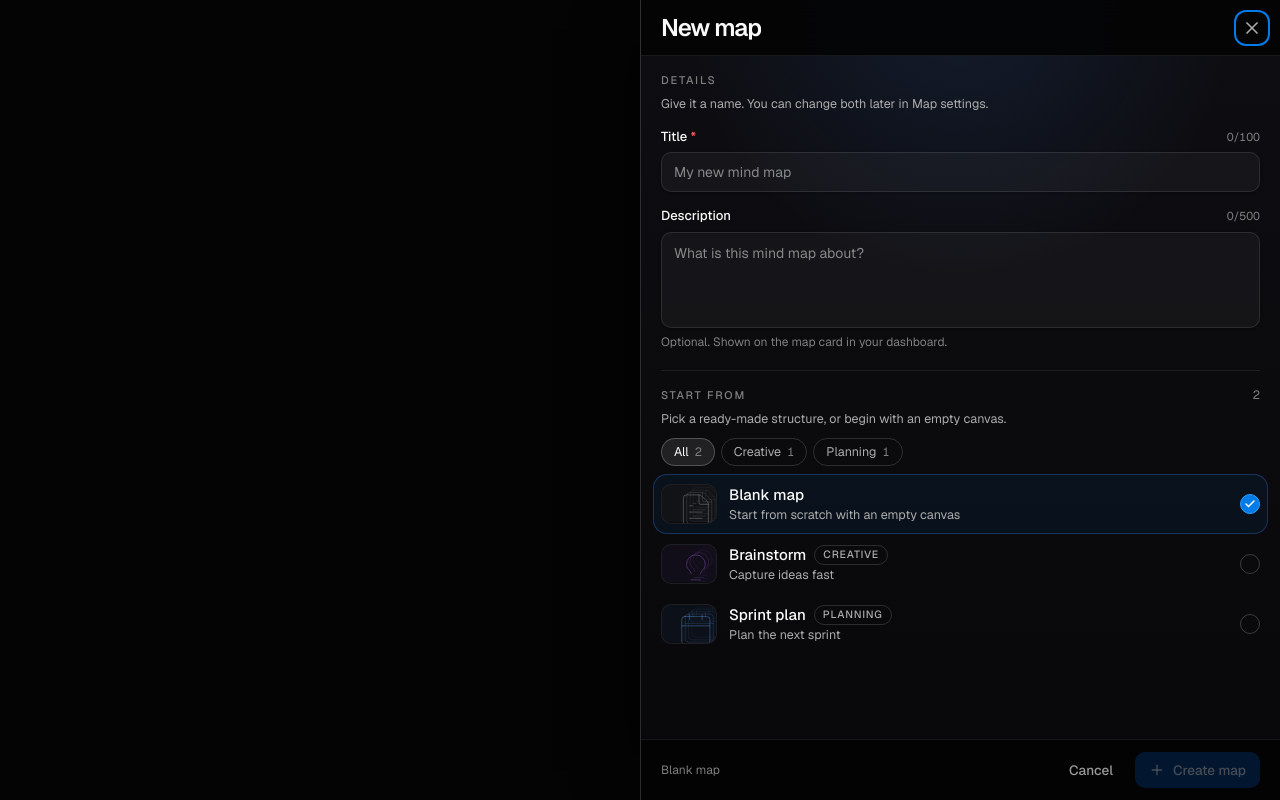
it: CreateMapDialog › filters templates by category and keeps the blank map
This screenshot has width=1280, height=800.
Click the button "Planning 1".
click(858, 452)  # box left=813, top=438, right=903, bottom=466
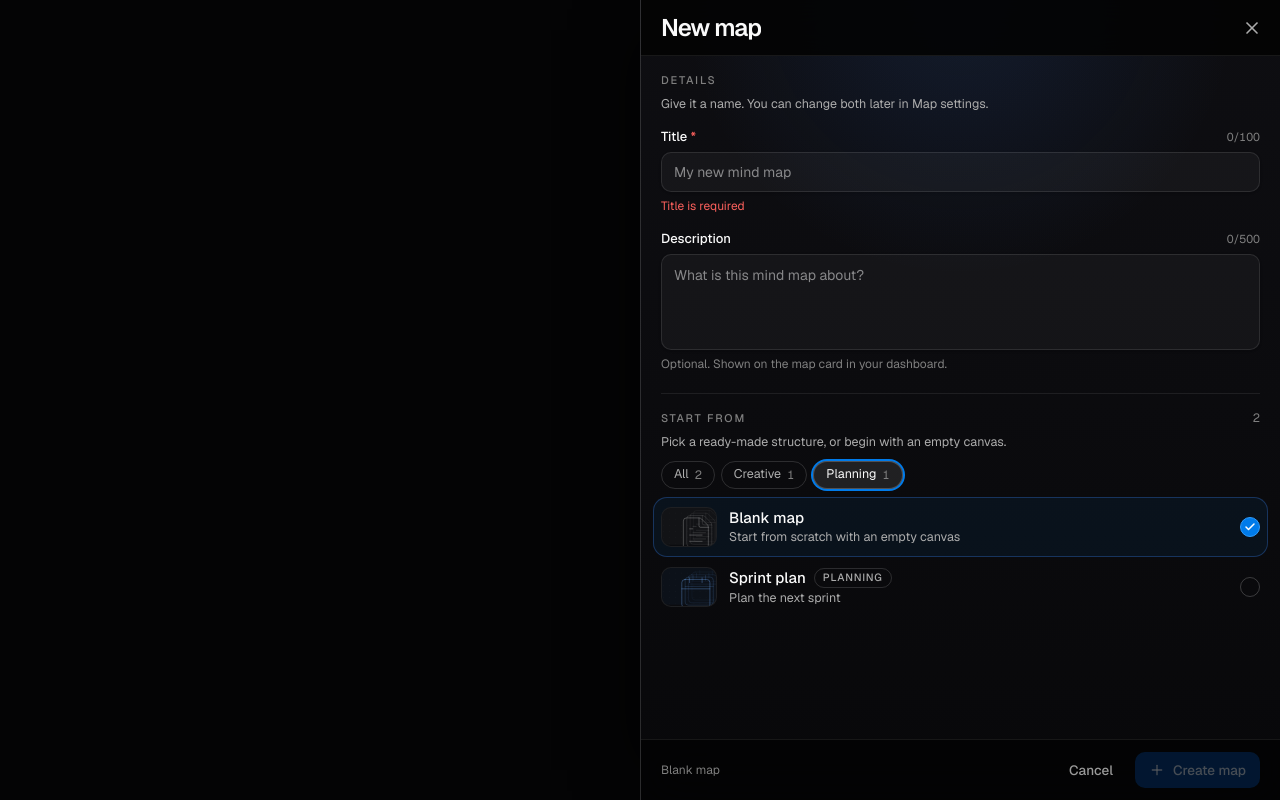
Expected: the button "Sprint plan Planning Plan the next sprint" is shown, left=653, top=557, right=1268, bottom=617
Result: the button "Brainstorm" is gone
